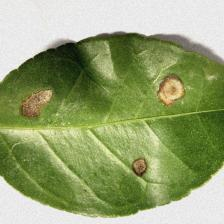canker: (9, 70, 190, 179)
